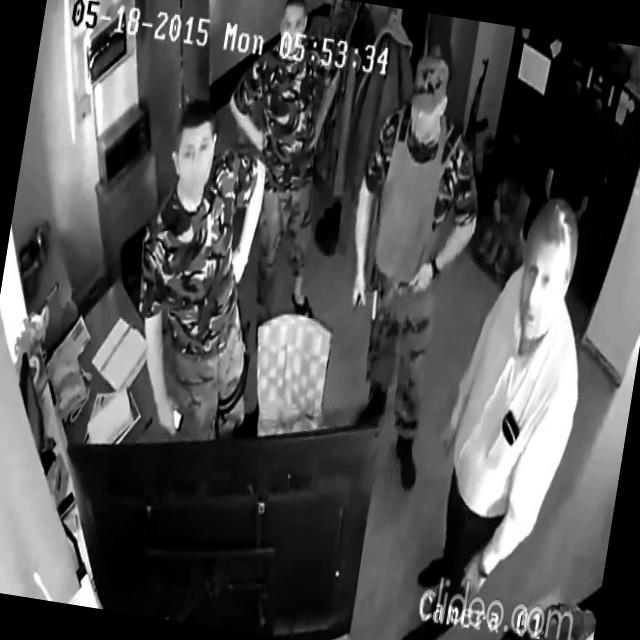gun: (356, 222, 394, 353), (462, 56, 501, 152)
person: (397, 182, 610, 640), (114, 94, 294, 453), (197, 0, 364, 329)
person with a gun: (315, 44, 500, 497)
